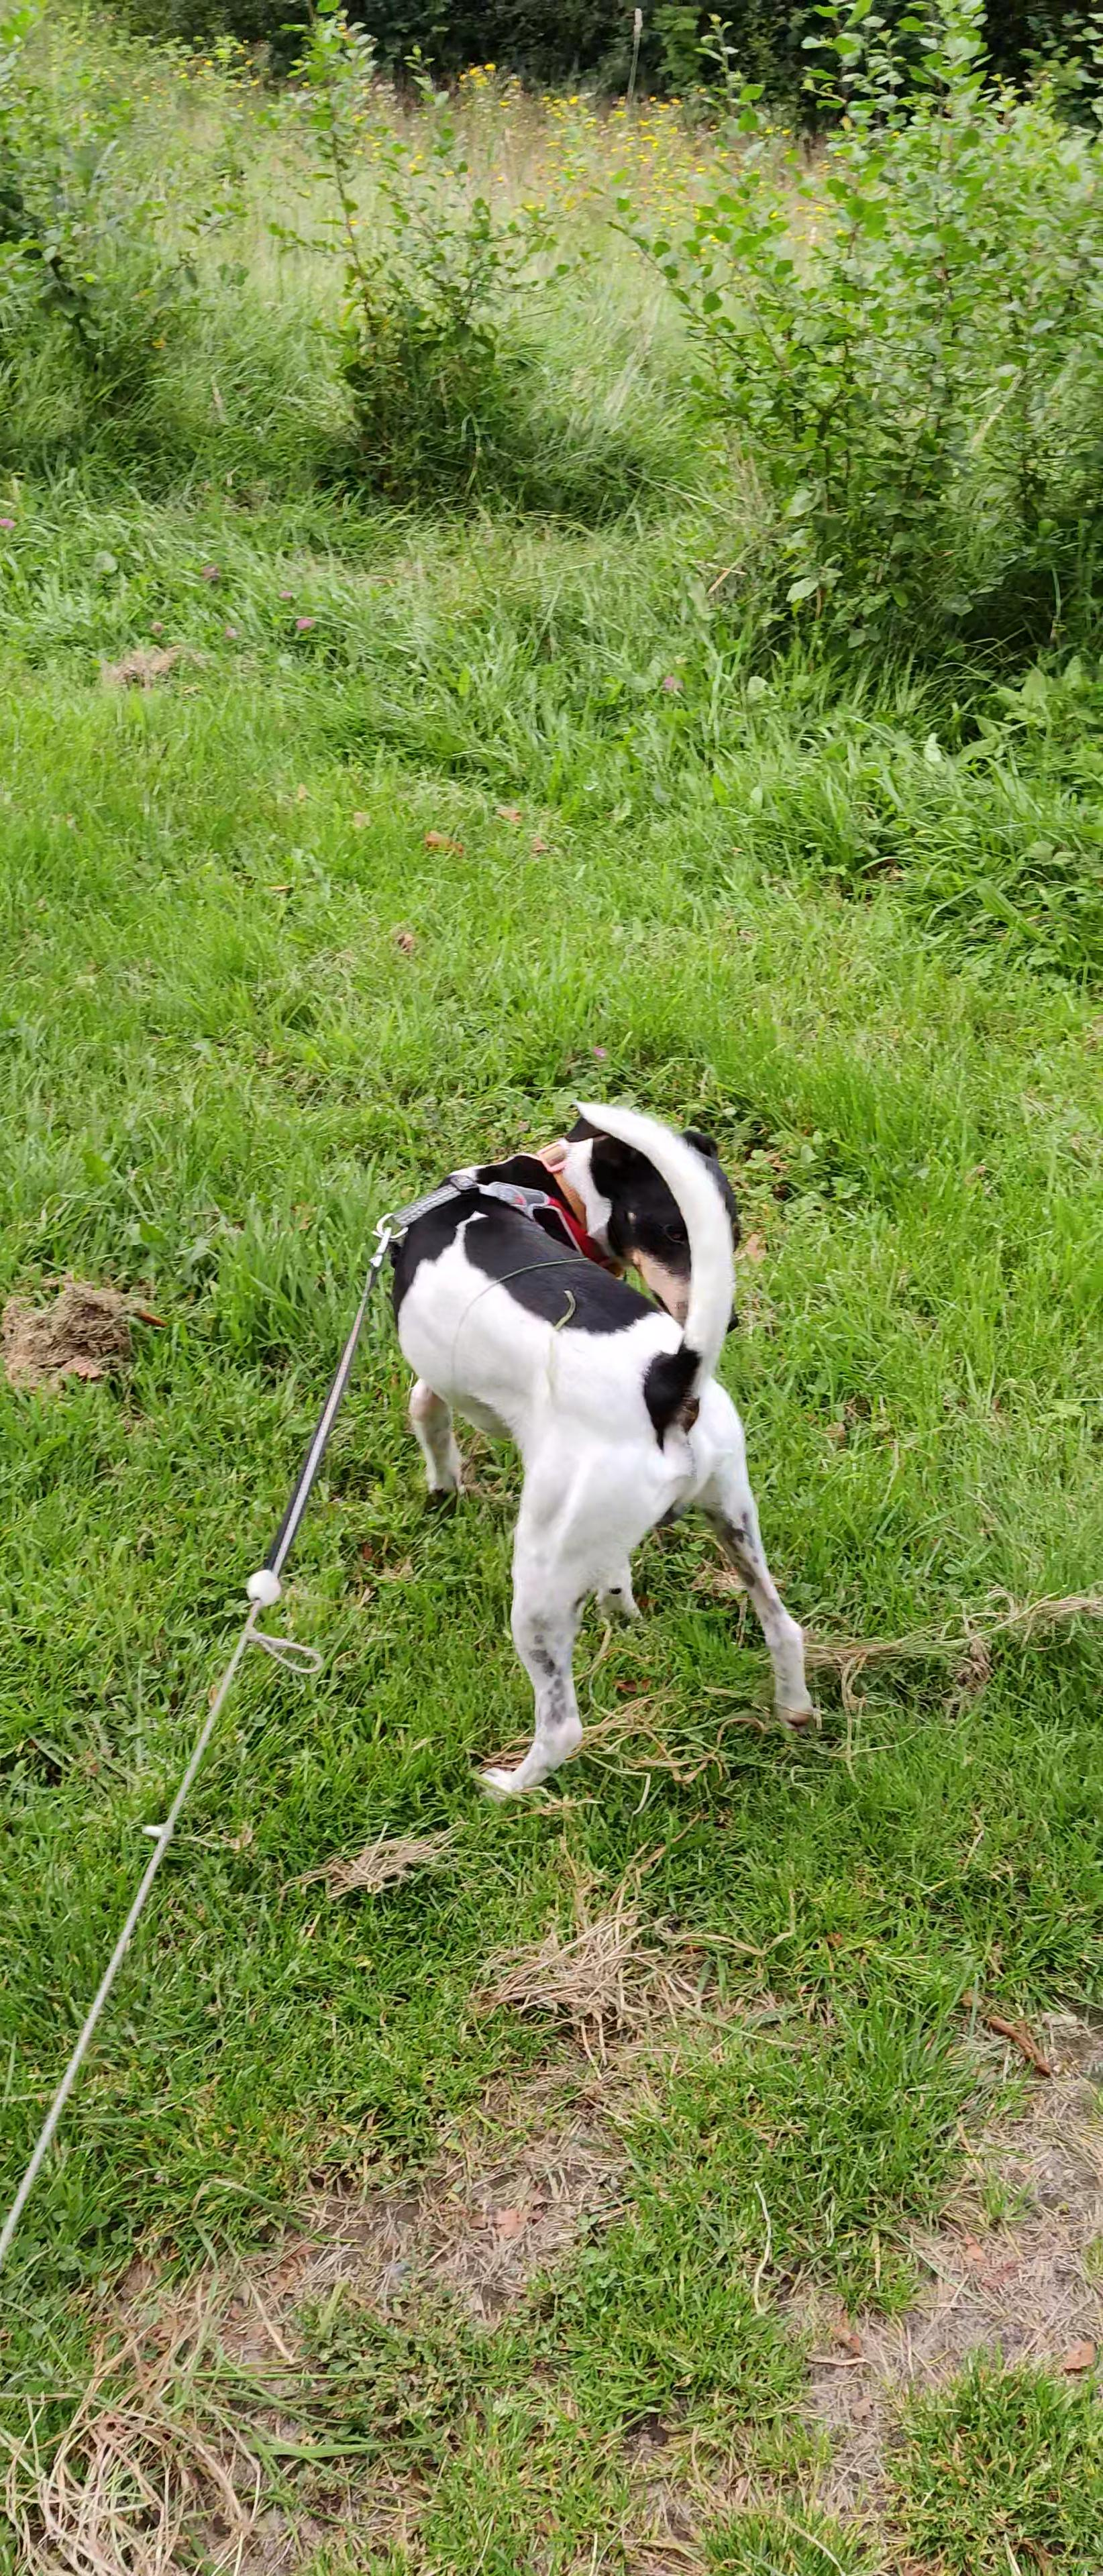Dog: (332, 1076, 873, 1838)
